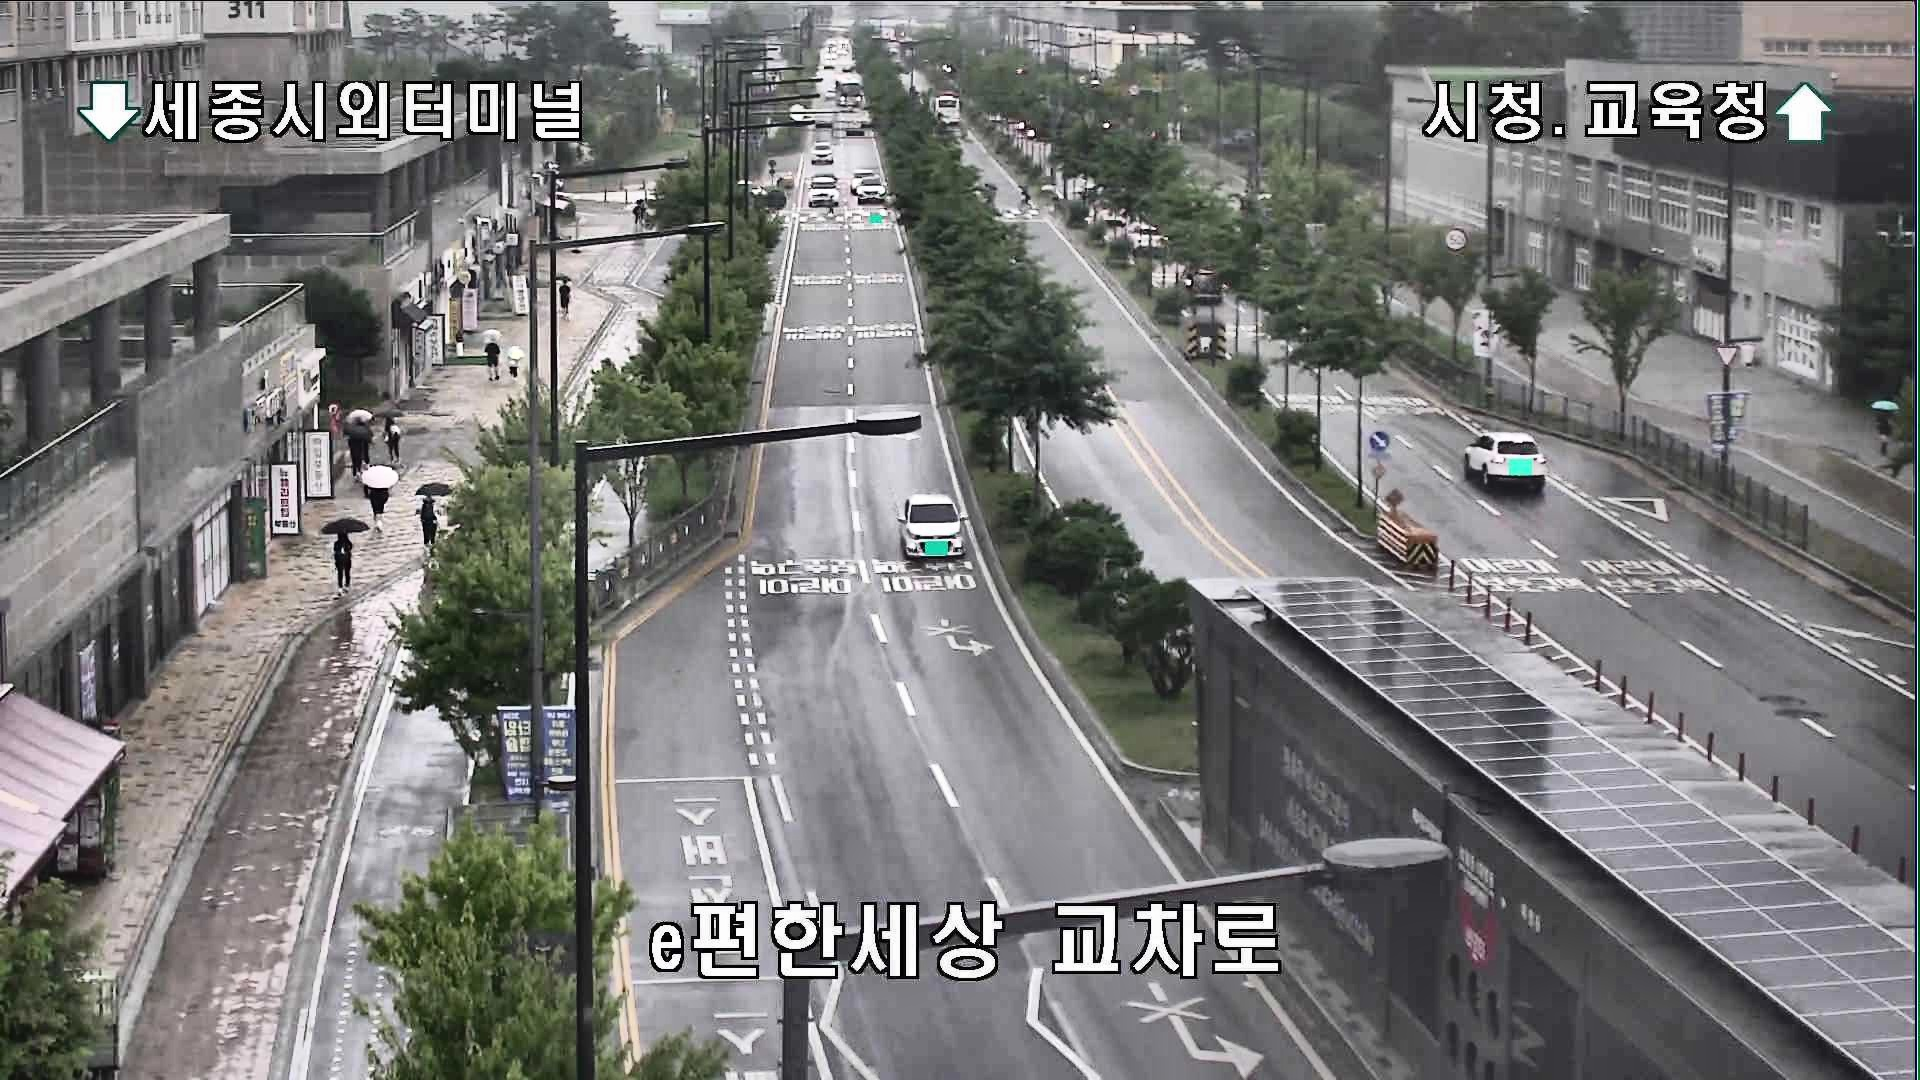crosswalk: (824, 191, 840, 222)
um_crosswalk: (1015, 185, 1035, 219)
um_sidewalk: (322, 520, 364, 593), (414, 485, 451, 555), (363, 465, 396, 534), (343, 422, 373, 479), (1873, 400, 1902, 454), (378, 410, 406, 465), (480, 330, 502, 381), (555, 272, 576, 318), (505, 345, 524, 386)
